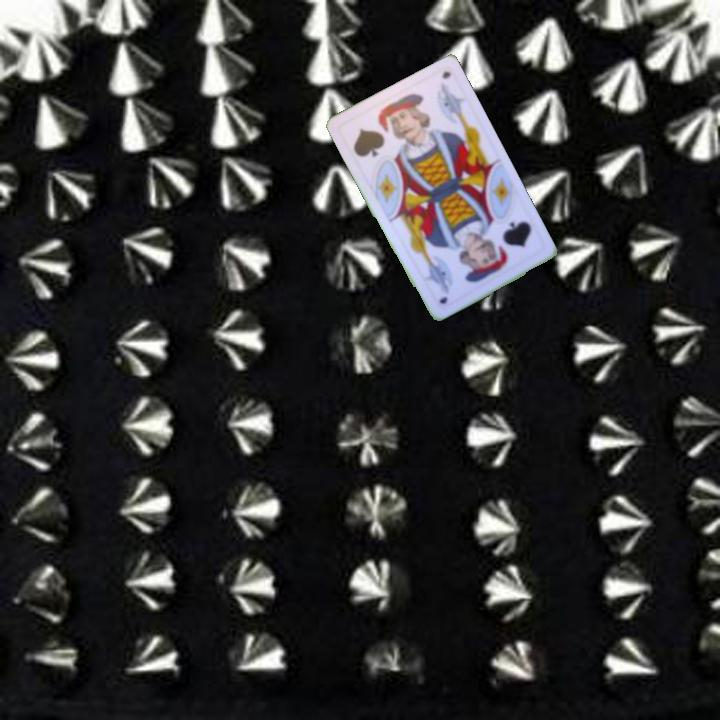s_j.png: (462, 202, 547, 283), (337, 95, 421, 175)
